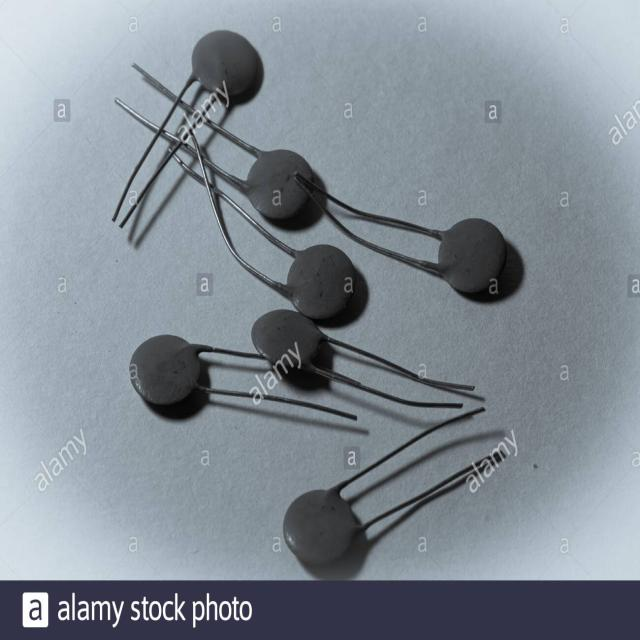capacitor: (169, 112, 357, 316), (282, 406, 499, 564), (114, 61, 313, 215), (113, 28, 263, 224), (294, 170, 506, 292), (252, 309, 476, 409), (130, 334, 363, 424)
